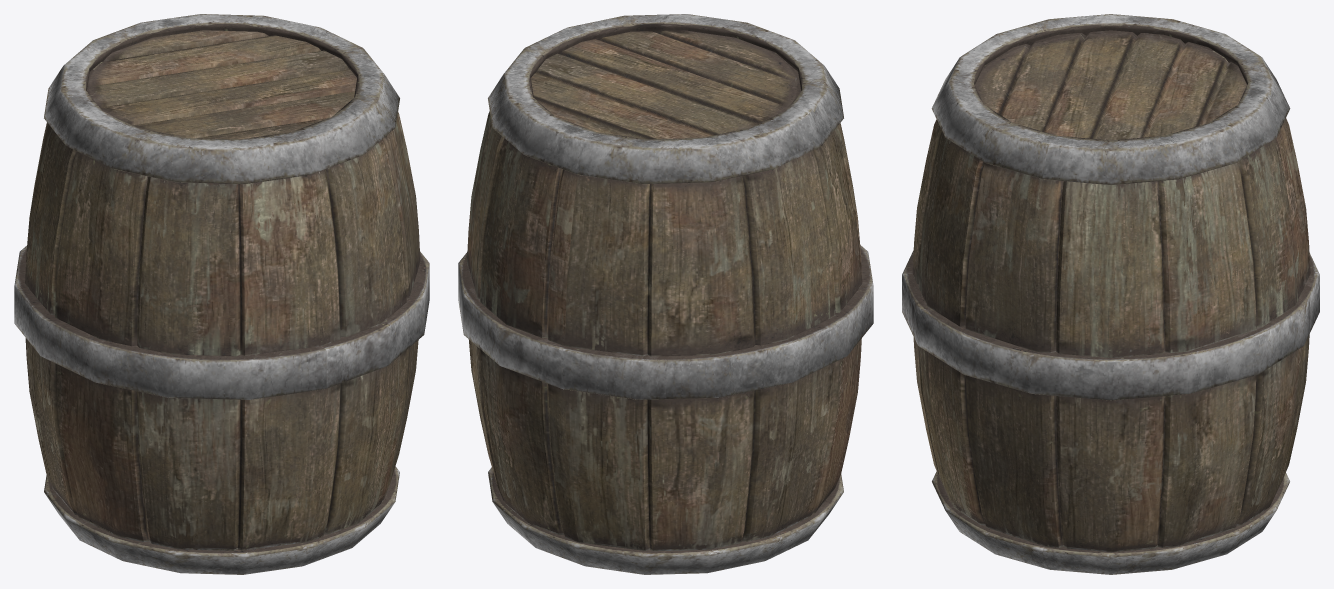
Rendered from SM_barrell.fbx.
3 views of the same model, side by side, from view 1: azimuth 30°, elevation 25°; view 2: azimuth 150°, elevation 25°; view 3: azimuth 270°, elevation 25° (orthographic).
Parts seen in each view (by area): view 1: SM_barrell_LOD0; view 2: SM_barrell_LOD0; view 3: SM_barrell_LOD0.
Boxes of the visible parts, bbox=[...] form: SM_barrell_LOD0: bbox=[14, 14, 429, 574]; SM_barrell_LOD0: bbox=[458, 14, 873, 574]; SM_barrell_LOD0: bbox=[902, 14, 1319, 574].
Size of the model in its own units: 84.63 by 84.63 by 95.08.
